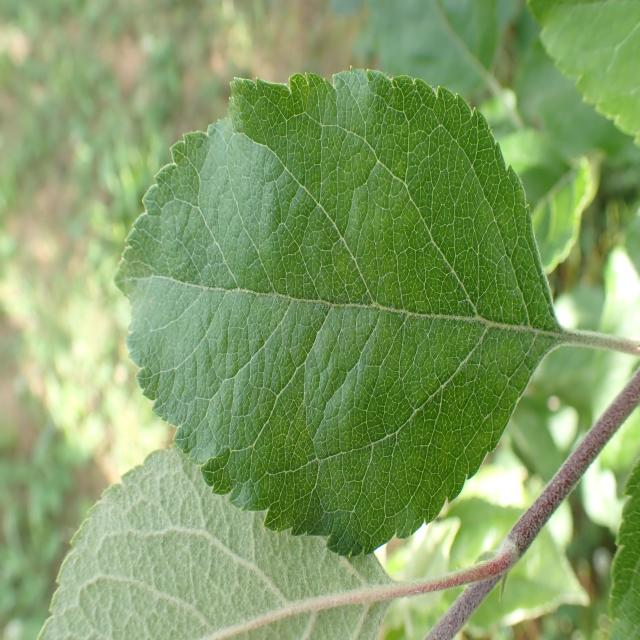healthy: (112, 64, 560, 556), (36, 443, 390, 640), (529, 0, 640, 149)
